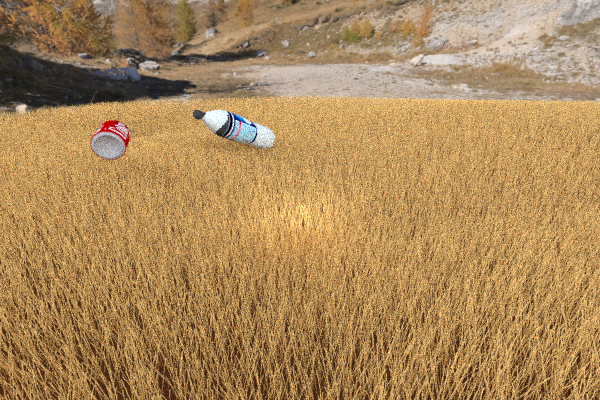bottle: (192, 109, 275, 149)
can: (90, 120, 130, 160)
